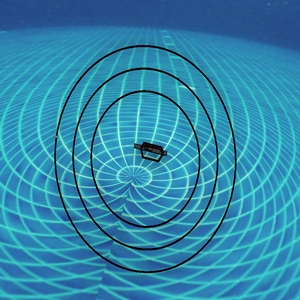circle: (37, 39, 244, 271)
submarine: (134, 140, 167, 165)
